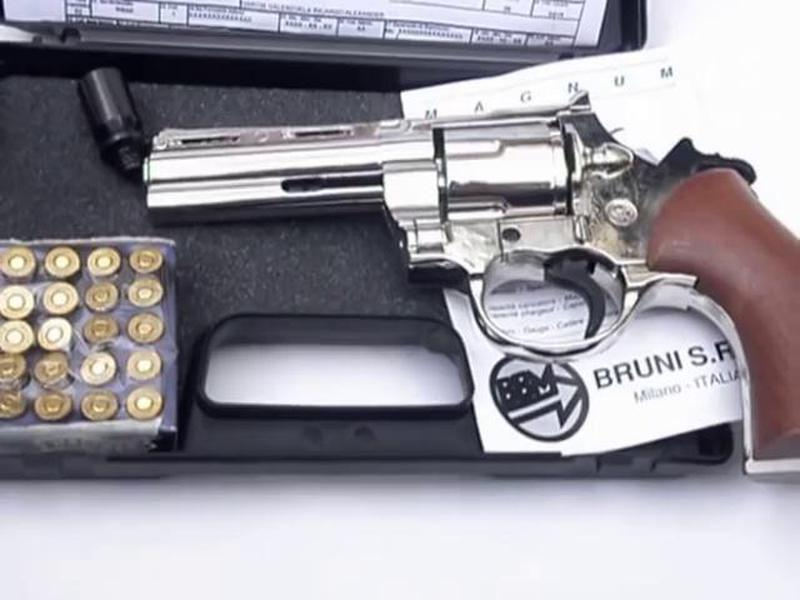Revolver: (124, 68, 800, 438)
